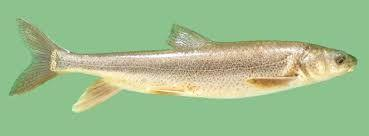Fourfinger Threadfish: (11, 15, 358, 117)
